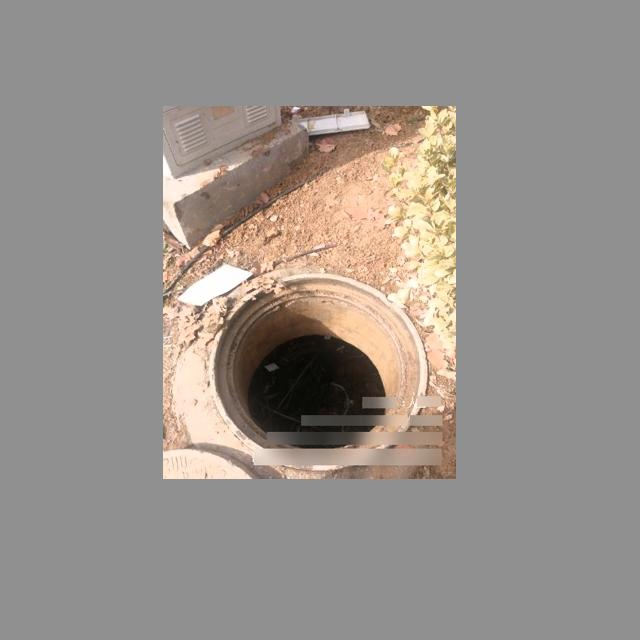lose: (210, 273, 428, 470)
